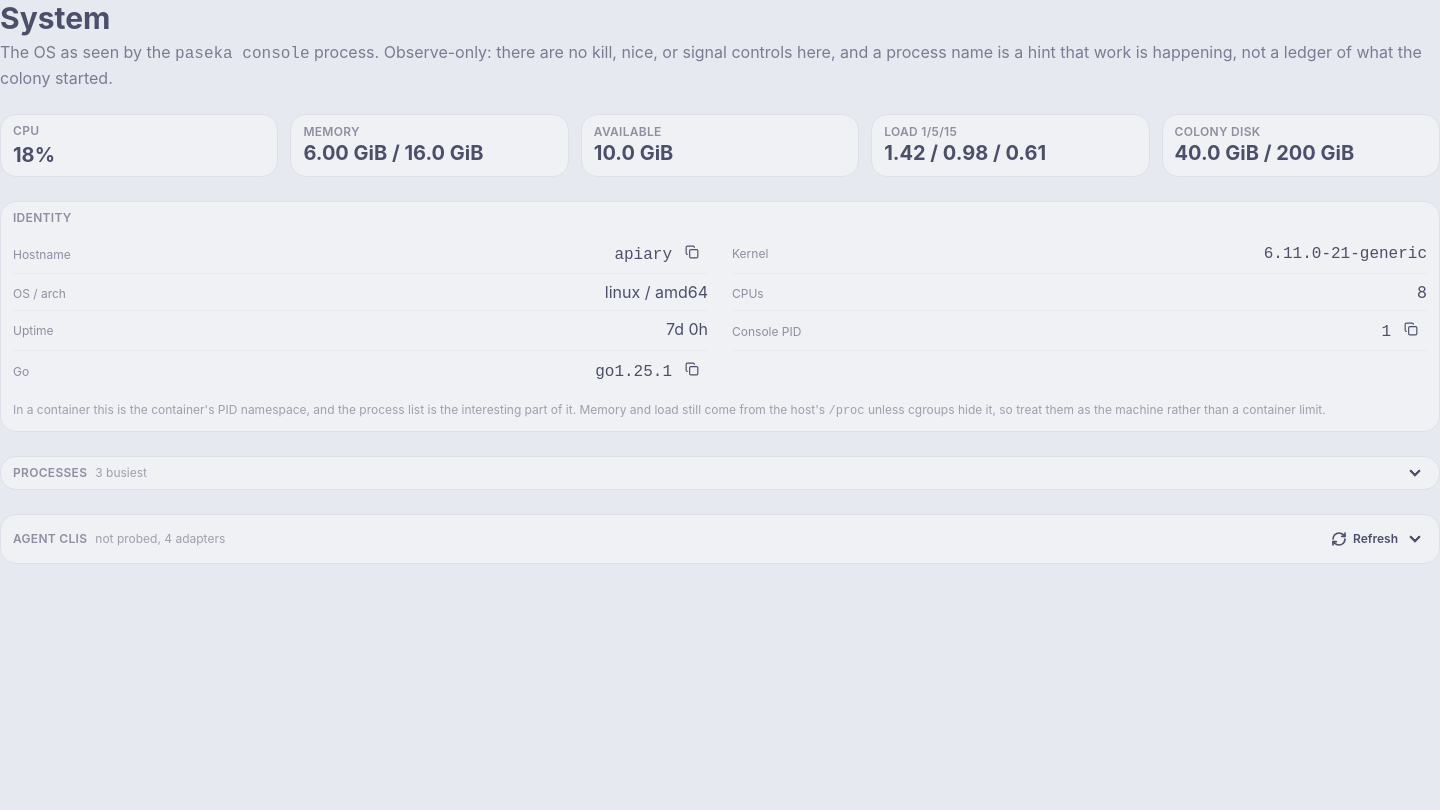
Test: agent CLIs failures › reports a failed read and retries on the next open
The width and height of the screenshot is (1440, 810).
Expected: the text "Memory" is shown, x1=303 y1=124 x2=360 y2=140
Click the heading "Agent CLIs": (50, 538) x1=1 y1=515 x2=1439 y2=563
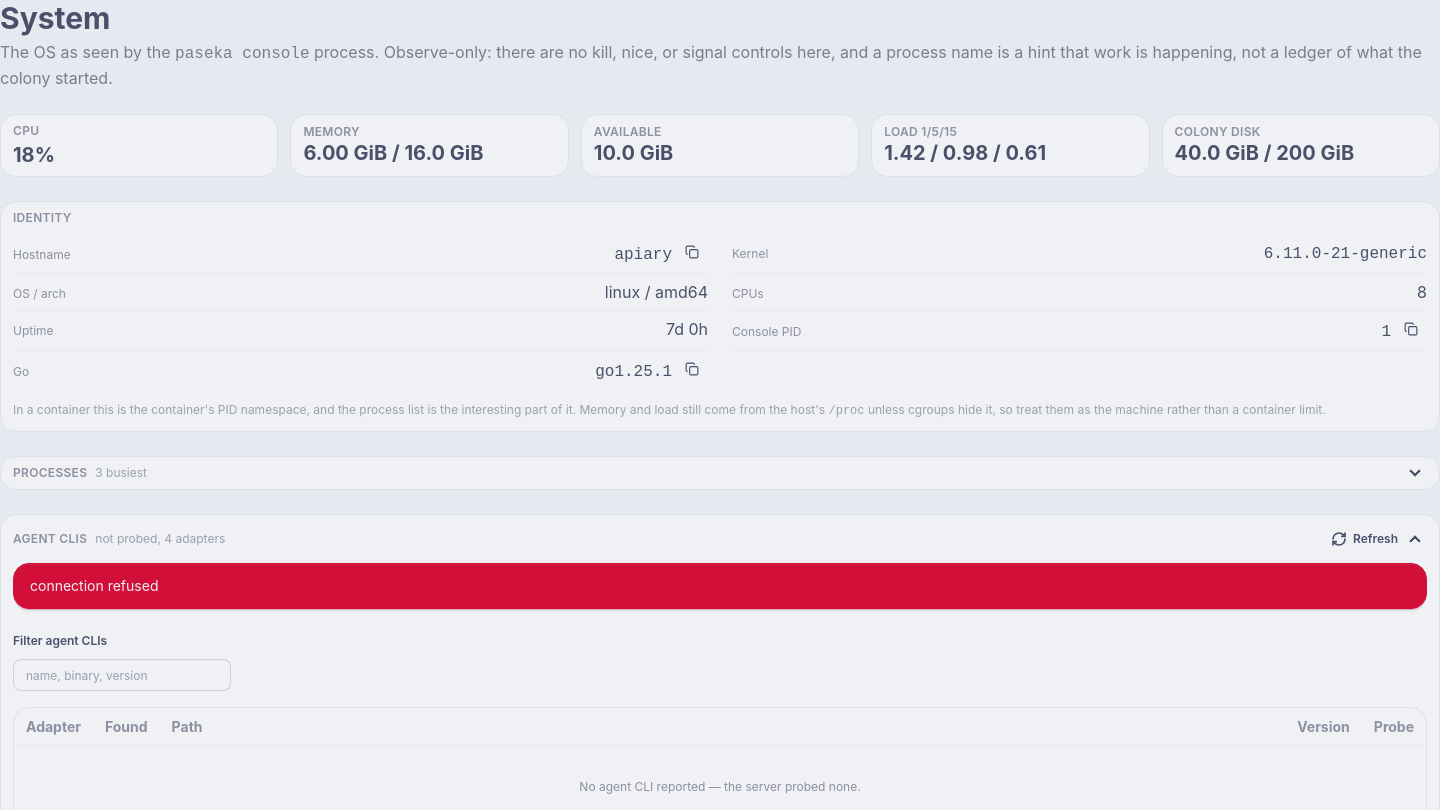
Expected: the message reads "connection refused", x1=30 y1=577 x2=158 y2=594
Click the heading "Agent CLIs": (50, 538) x1=1 y1=515 x2=1439 y2=563
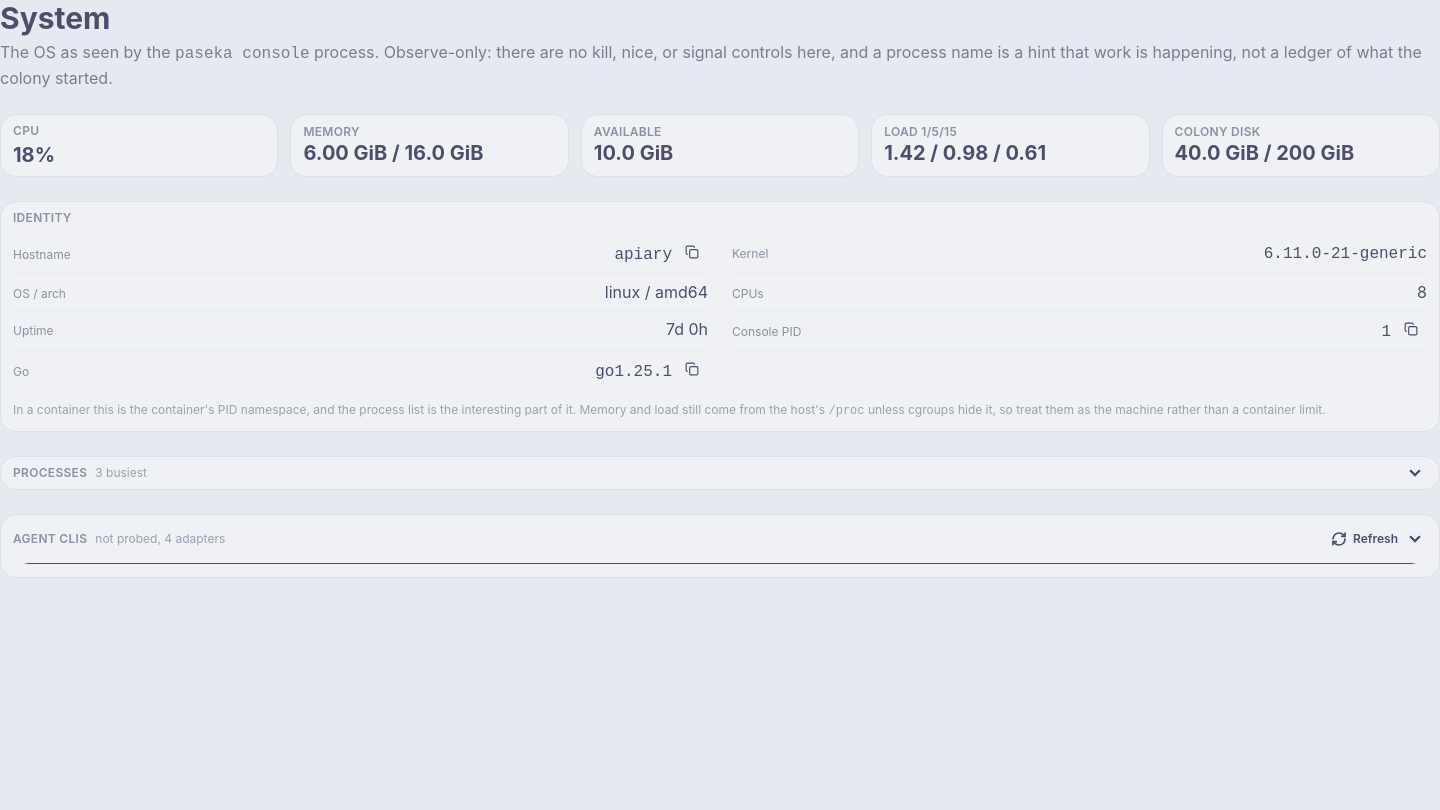
Click the heading "Agent CLIs": (50, 538) x1=1 y1=515 x2=1439 y2=563
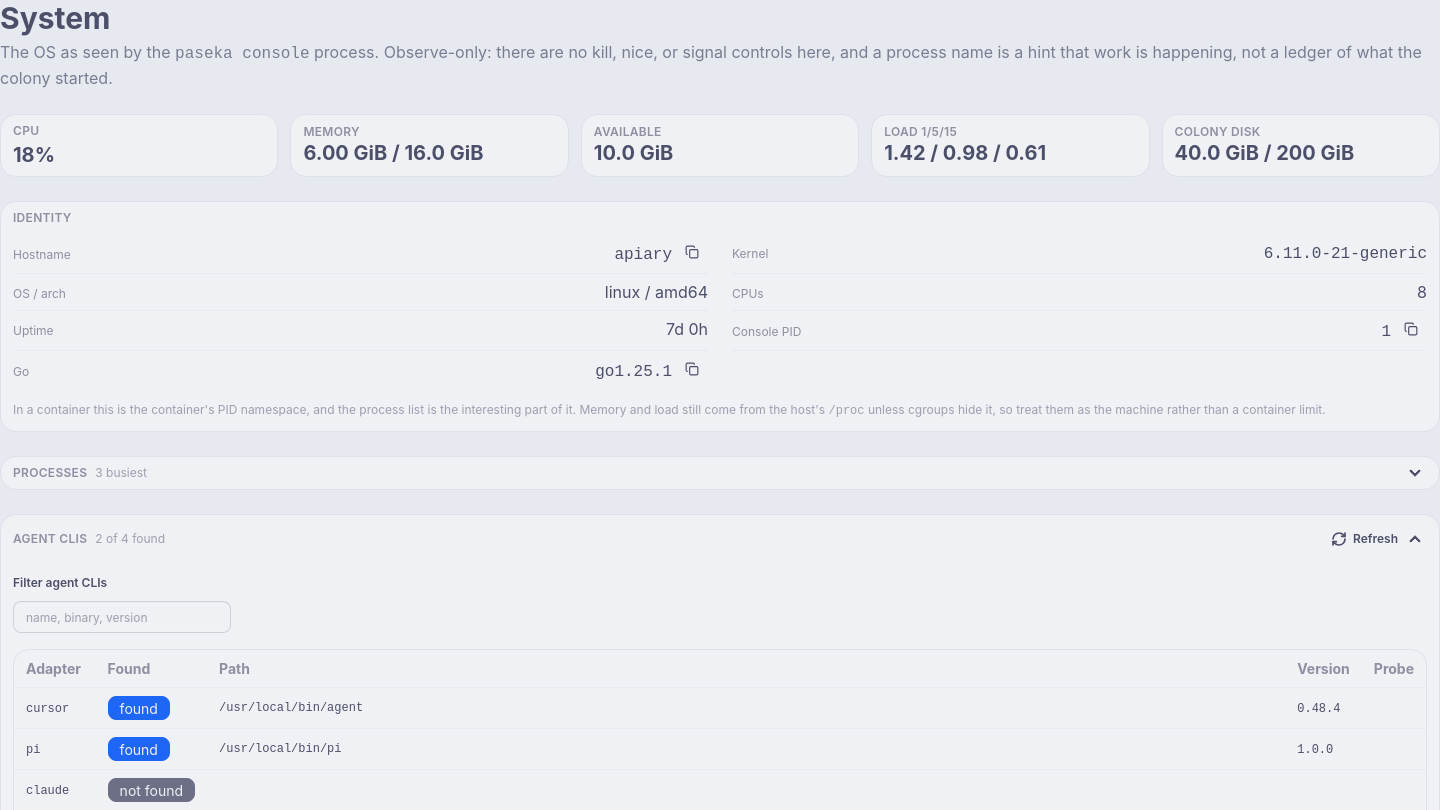
Expected: the text "0.48.4" is shown, x1=1297 y1=702 x2=1340 y2=716
